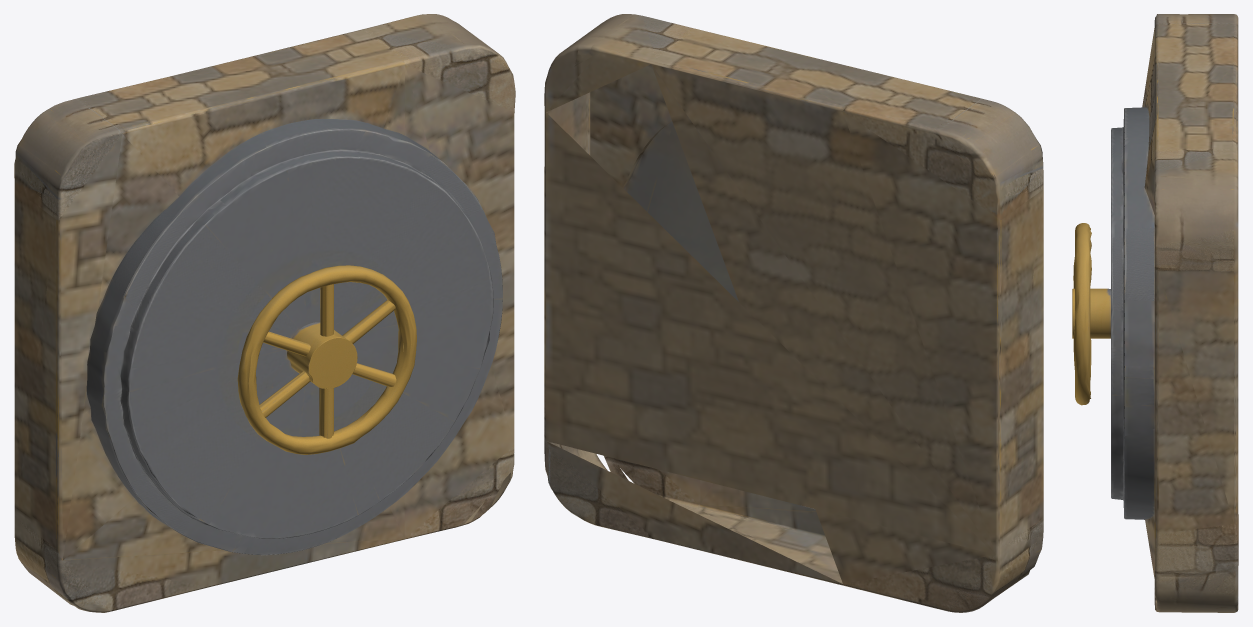
Rendered from vault.raw.glb.
The picture shows the model from 3 angles, left to right: view 1: azimuth 30°, elevation 25°; view 2: azimuth 150°, elevation 25°; view 3: azimuth 270°, elevation 25°; orthographic projection. The views are drawn at different scales.
Bounding box in the file's own units: 0.9482 × 0.9507 × 0.3296.
Materials: 1 (1 with a texture image).
